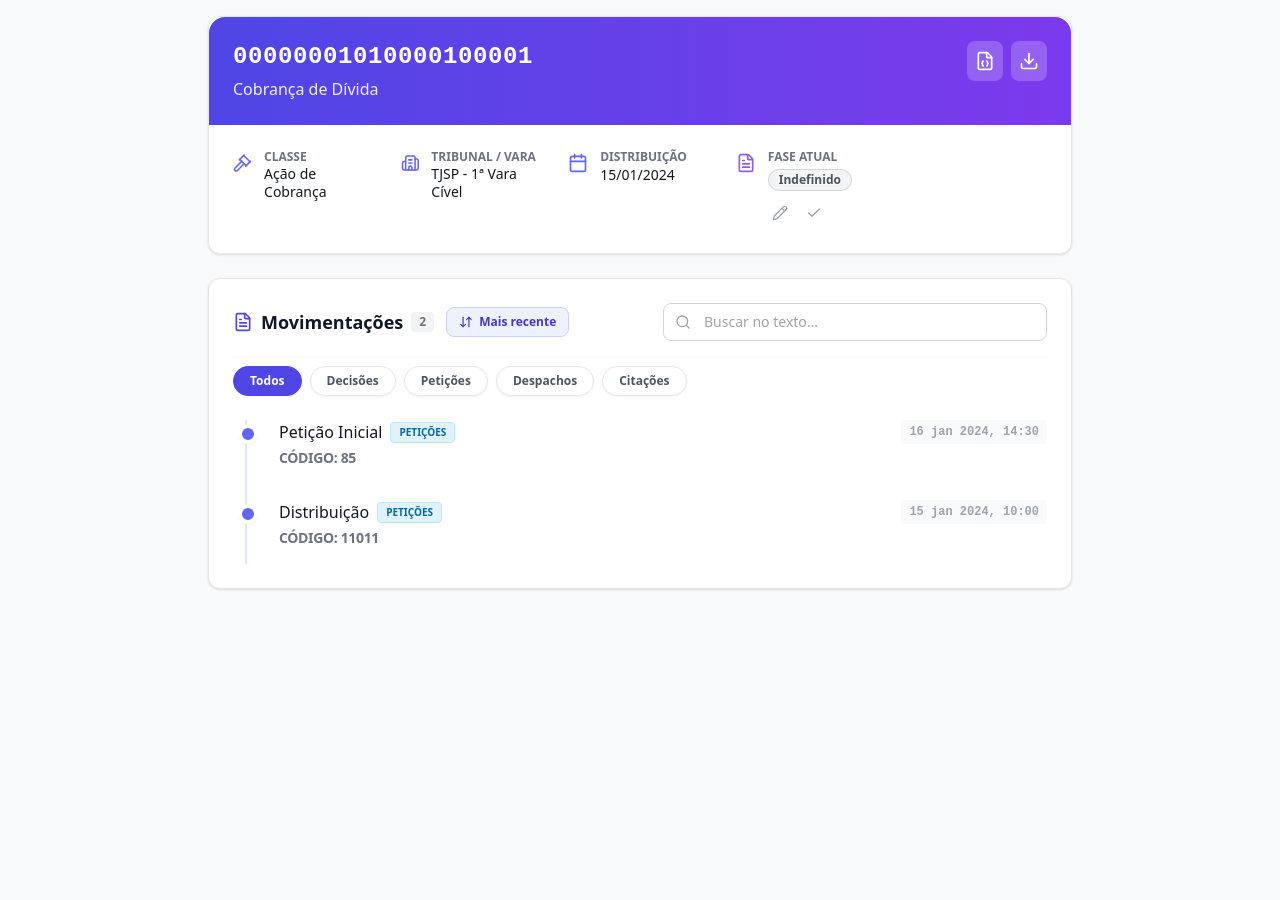
Scenario: Modal Dialog ARIA — REM-029 › JSON modal renders with correct ARIA attributes when raw_data is present and button is clicked
What coordinates should you click on to do the following:
click the button titled "Ver JSON Bruto"
I would click on:
 (985, 61)
Its box is [967,41,1003,81].
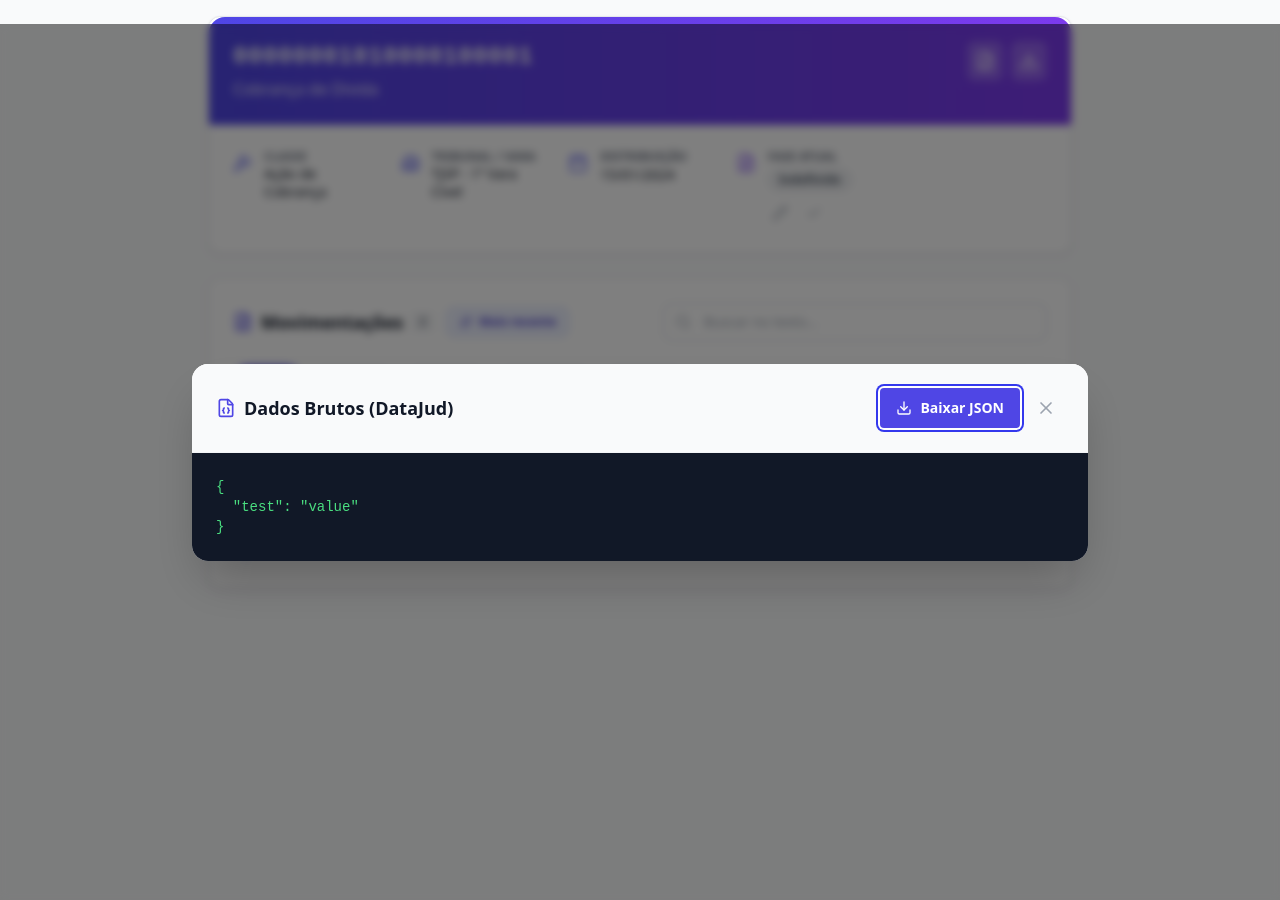
Result: the dialog is shown at [192,364,1088,560]
Result: the heading "Dados Brutos (DataJud)" is shown at [216,394,453,422]
